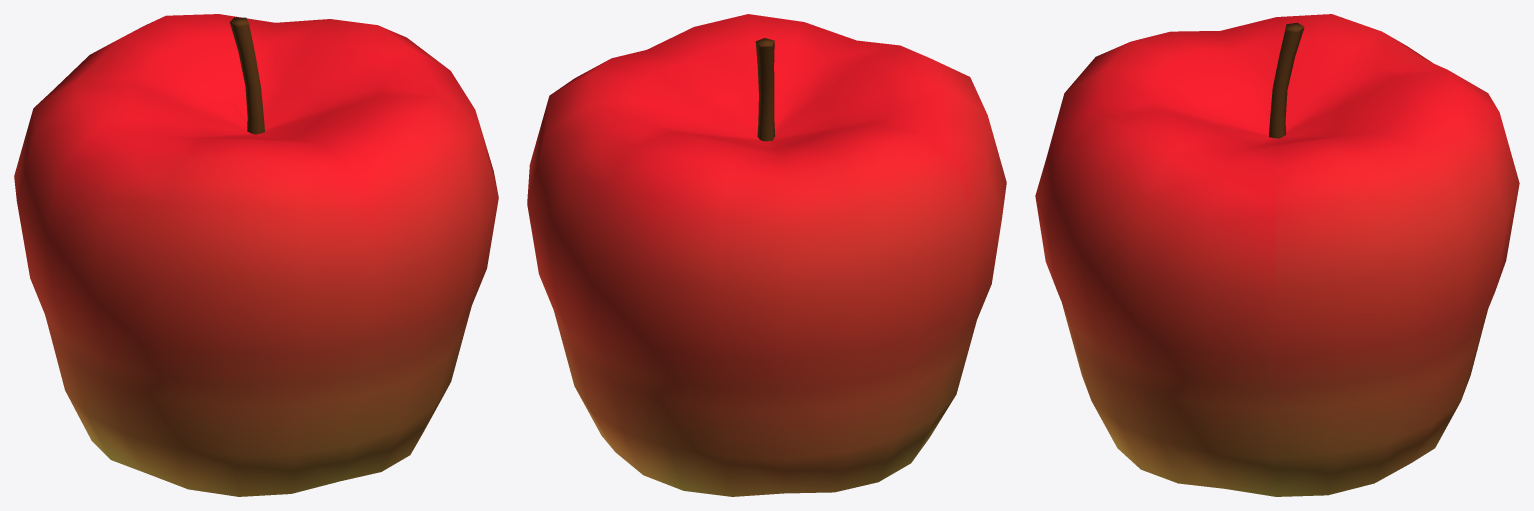
File: Apple.glb
3 views of the same model, side by side, from view 1: azimuth 30°, elevation 25°; view 2: azimuth 150°, elevation 25°; view 3: azimuth 270°, elevation 25° (orthographic).
Visible parts, largest first — view 1: Apple.002; view 2: Apple.002; view 3: Apple.002.
Part boxes in pixels (x1,y1,x2,y2): Apple.002: (14, 14, 498, 496); Apple.002: (527, 14, 1006, 496); Apple.002: (1035, 14, 1519, 496).
Bounding box in the file's own units: 0.5502 × 0.5208 × 0.5505.
2 materials, 2 textured.
